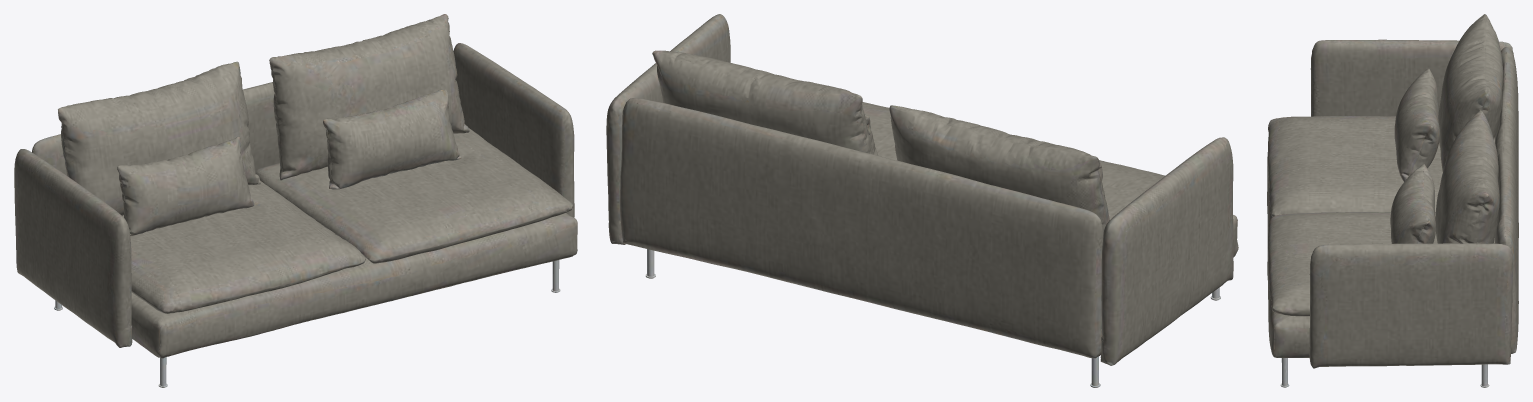
The model's file is soderhamn_sofa_3_osobowa_69305697.glb.
3 renders of one model, left to right at view 1: azimuth 30°, elevation 25°; view 2: azimuth 150°, elevation 25°; view 3: azimuth 270°, elevation 25°, orthographic. The views are drawn at different scales.
Visible parts, largest first — view 1: soderhamn_sofa_3_osobowa_69305697; view 2: soderhamn_sofa_3_osobowa_69305697; view 3: soderhamn_sofa_3_osobowa_69305697.
Part boxes in pixels (x1=…): soderhamn_sofa_3_osobowa_69305697: x1=14, y1=14, x2=577, y2=387; soderhamn_sofa_3_osobowa_69305697: x1=606, y1=14, x2=1238, y2=387; soderhamn_sofa_3_osobowa_69305697: x1=1267, y1=14, x2=1518, y2=387.
Bounding box in the file's own units: 2.05 × 0.8656 × 1.02.
Materials: 2 (2 with a texture image).
